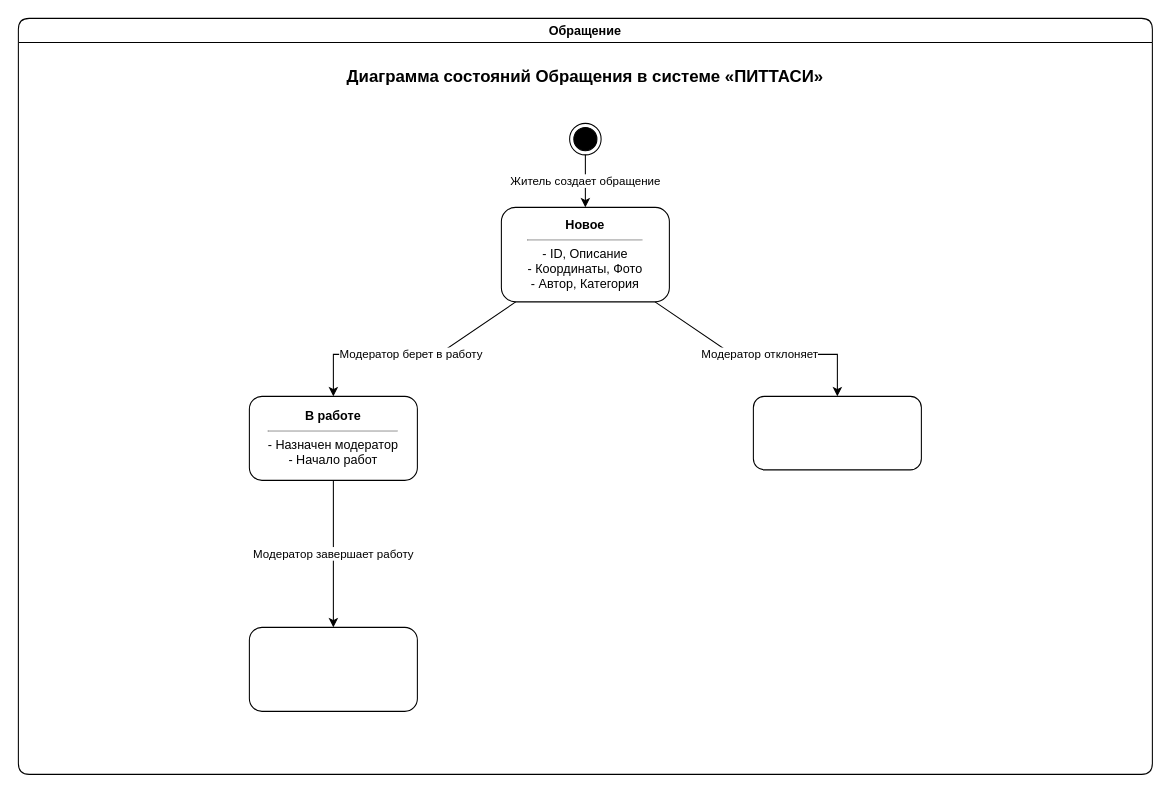
Image size: 1171x793. Some labels were removed from this diagram. Here are the shapes that lost their labels. From the top down, the box of each, then its label:
(752, 395, 921, 470): Отклонено - Причина отклонения
(248, 626, 417, 711): Решено - Задача выполнена - Добавлен фотоотчет
